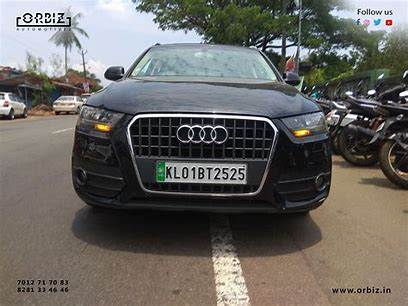license-plate: (156, 158, 250, 184)
